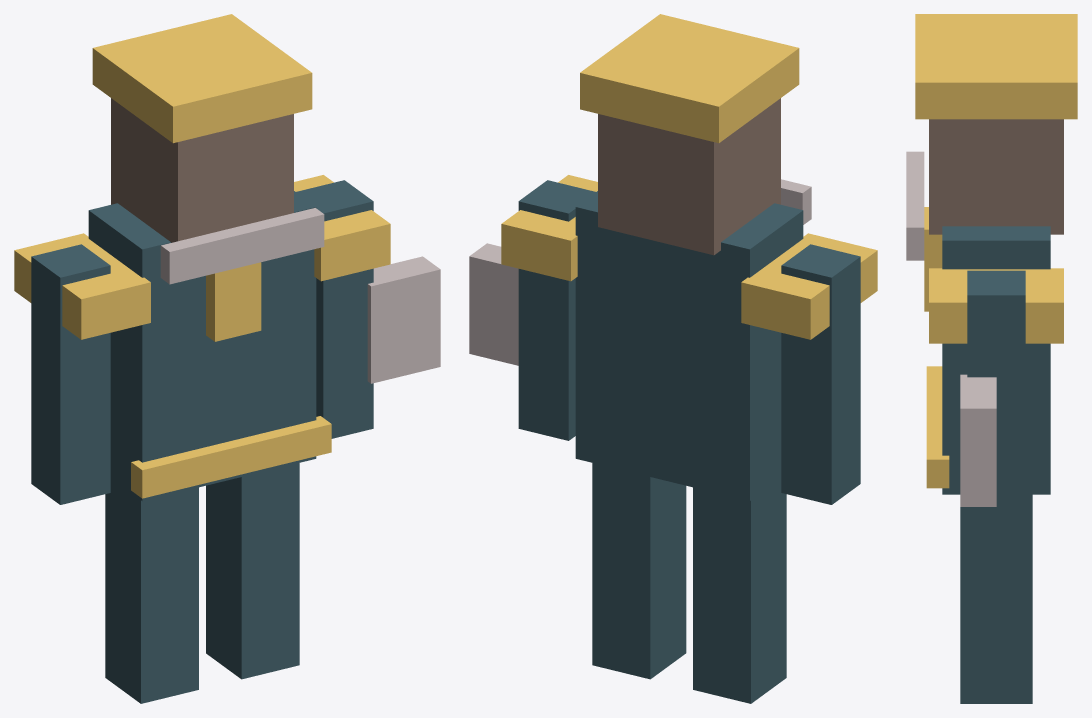
File: 06_vale_voidrill_ranger_of_battle.glb
The picture shows the model from 3 angles, left to right: view 1: azimuth 30°, elevation 25°; view 2: azimuth 150°, elevation 25°; view 3: azimuth 270°, elevation 25°; orthographic projection.
Visible parts, largest first — view 1: Vale Voidrill, Ranger of Battle; view 2: Vale Voidrill, Ranger of Battle; view 3: Vale Voidrill, Ranger of Battle.
Boxes of the visible parts, bbox=[...] form: Vale Voidrill, Ranger of Battle: bbox=[14, 14, 440, 703]; Vale Voidrill, Ranger of Battle: bbox=[469, 14, 877, 703]; Vale Voidrill, Ranger of Battle: bbox=[906, 14, 1077, 703].
Bounding box in the file's own units: 0.9502 × 1.47 × 0.3703.
